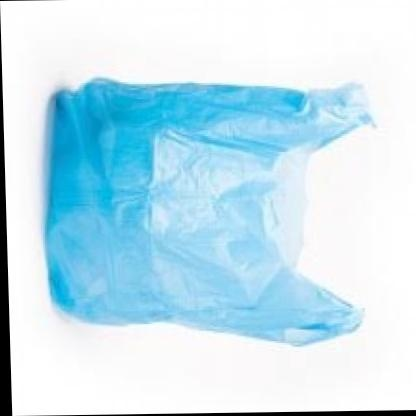trash: (46, 79, 371, 344)
